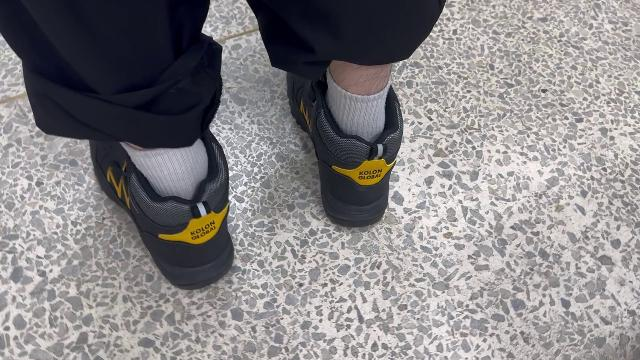shoe_worn: (92, 134, 240, 292), (290, 69, 410, 230)
